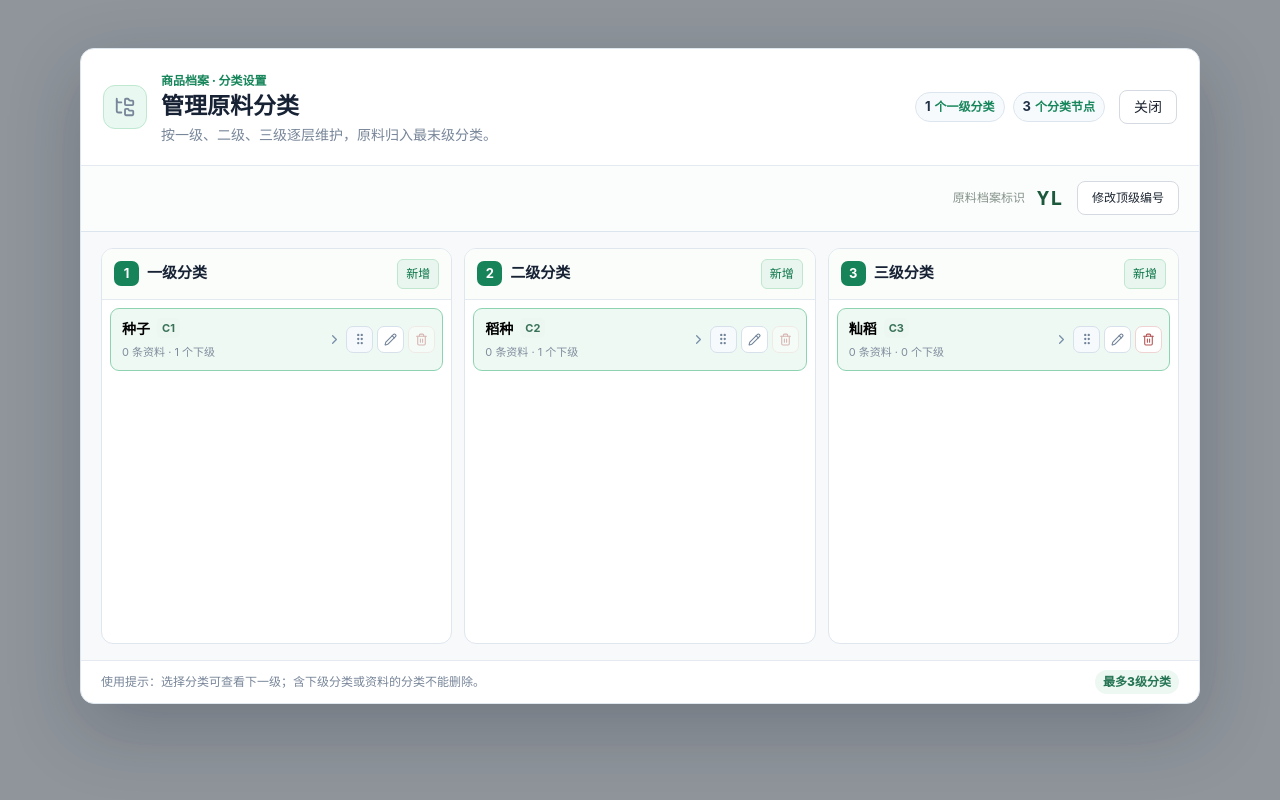
Scenario: 24号分类管理：逐级维护与保存失败保护 › 顶级编号保存失败保留草稿，重试只写类型编号，不重写分类或商品
Expected: the button named "编辑籼稻" is shown, x1=1104 y1=326 x2=1131 y2=353
Click the button "修改顶级编号" at (1128, 198), box x1=1077 y1=181 x2=1179 y2=215
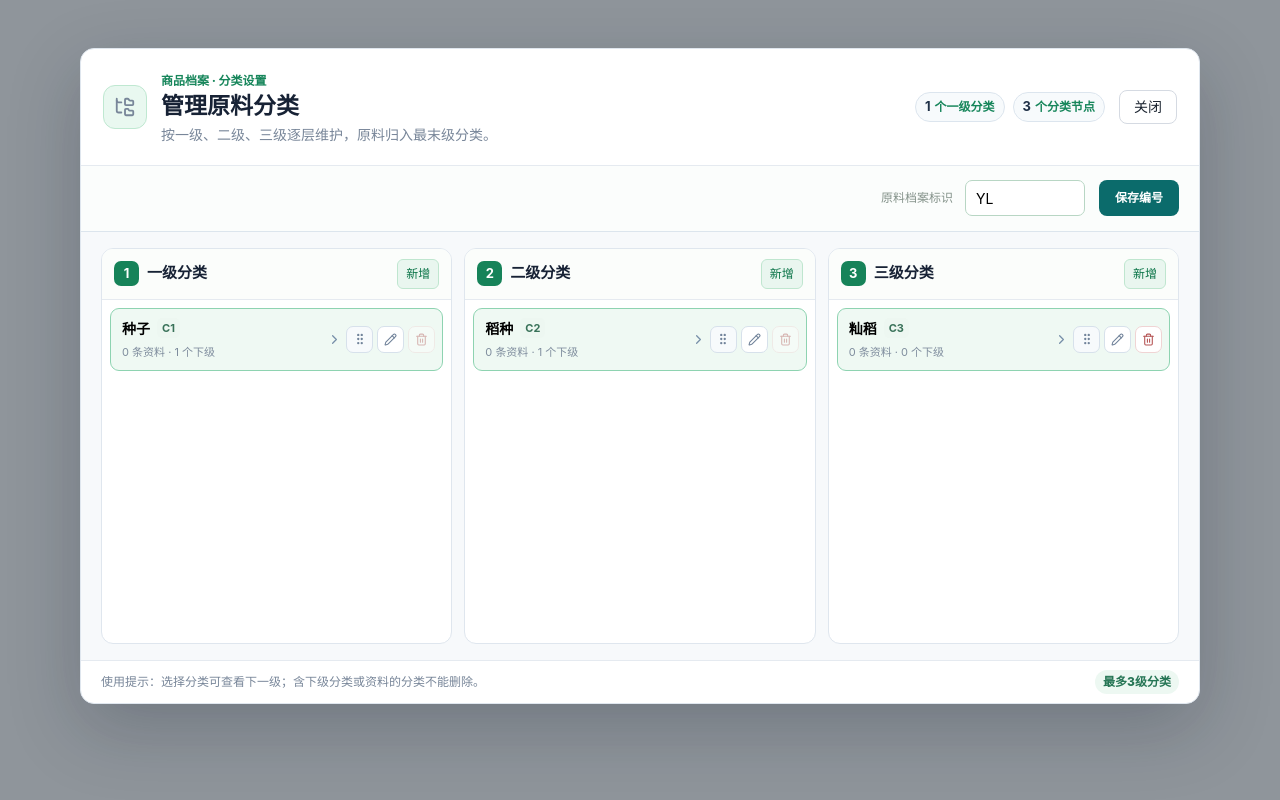
Replace the text in the field named "顶级分类编号" with "ZYL" at (1025, 198), box x1=965 y1=180 x2=1085 y2=216
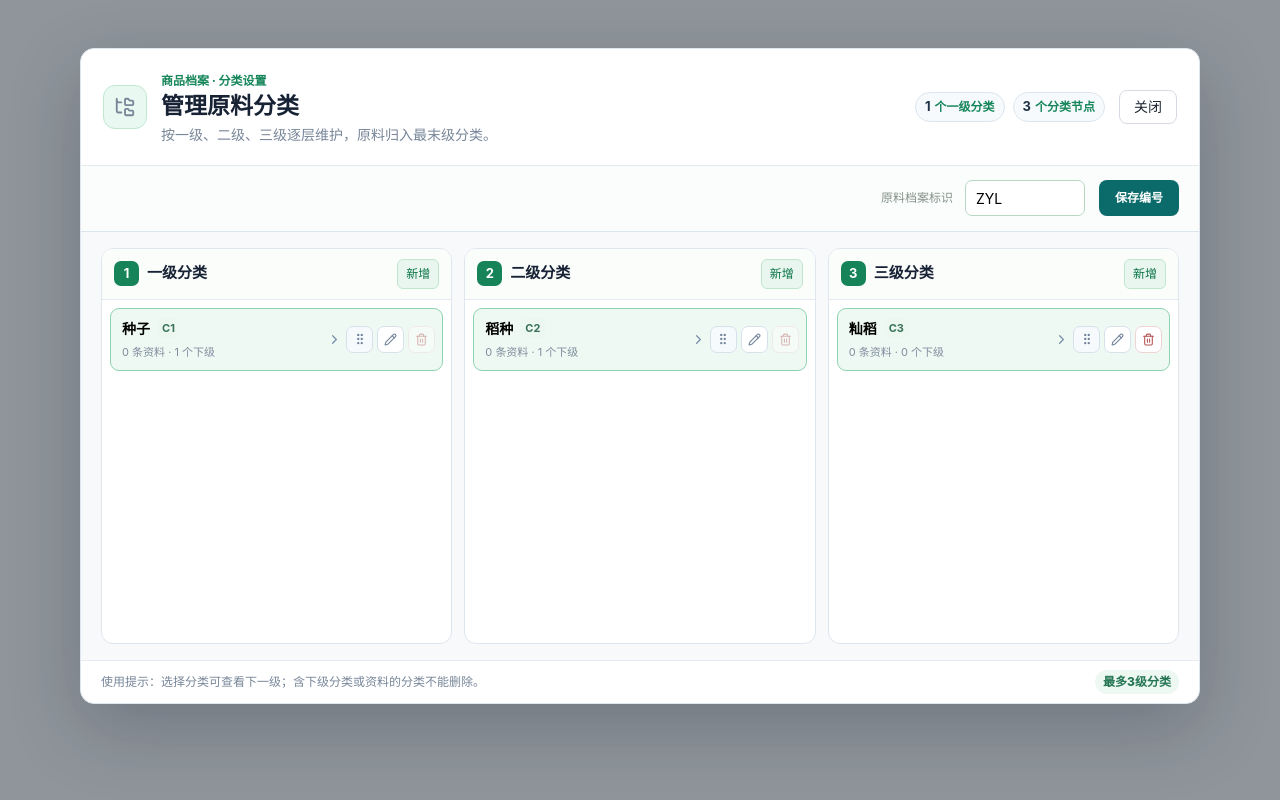
Click the button "保存编号" at (1139, 198), box x1=1099 y1=180 x2=1179 y2=216
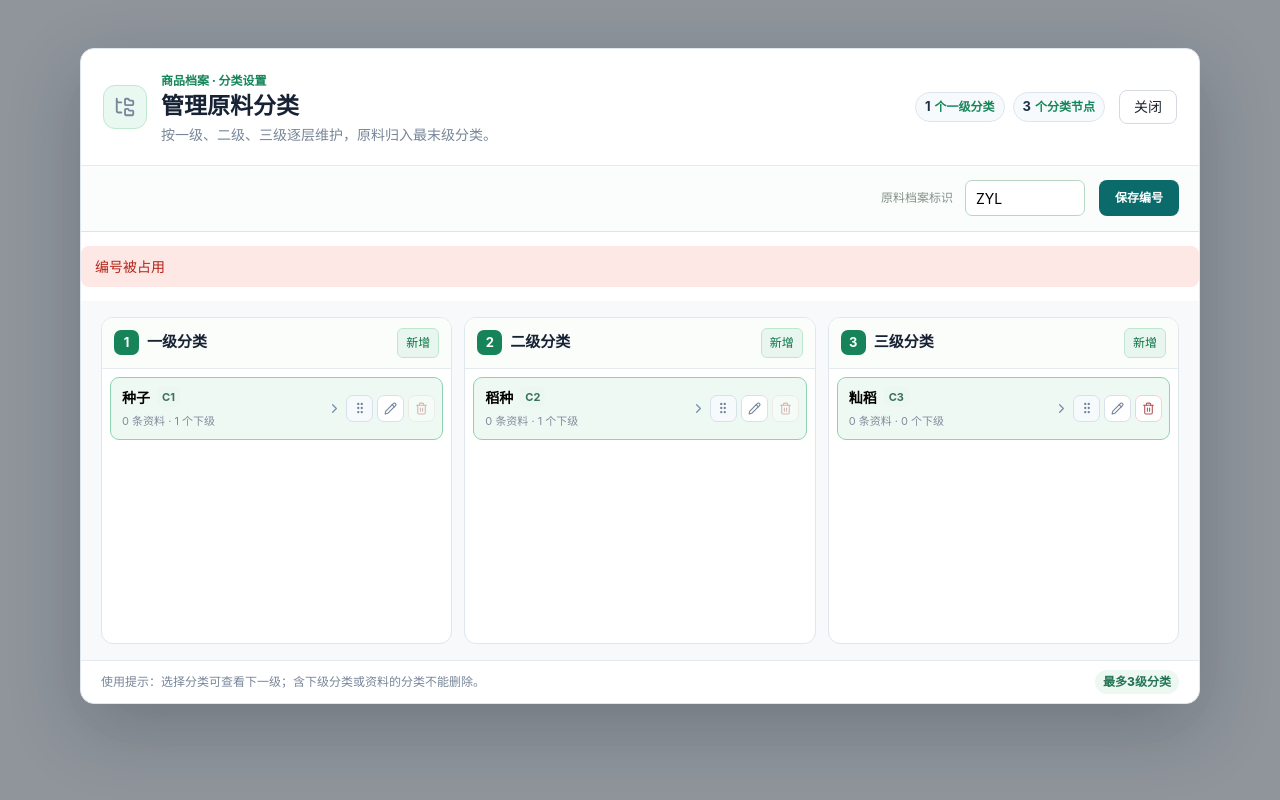
Now the text "编号被占用" is shown, box x1=81 y1=246 x2=1199 y2=287
Click the button "保存编号" at (1139, 198), box x1=1099 y1=180 x2=1179 y2=216
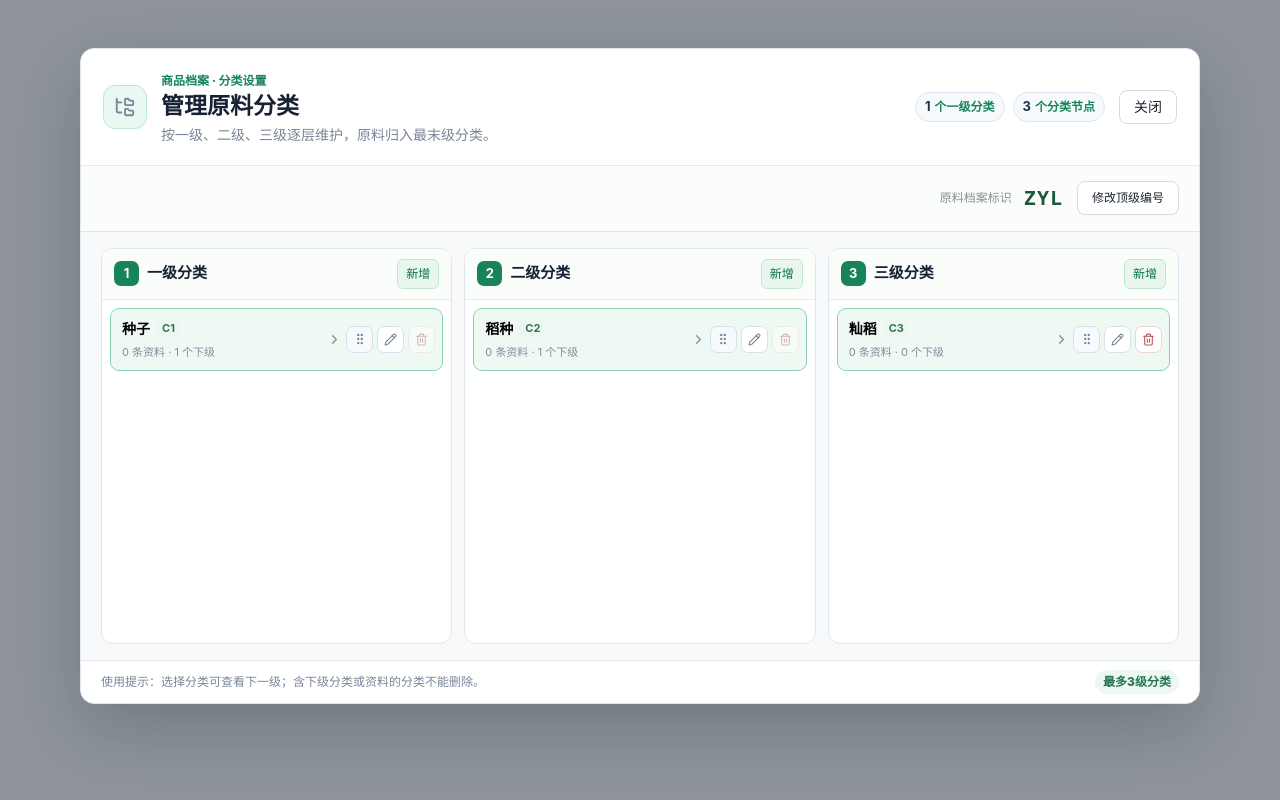
Now the field labelled "顶级分类编号" is gone
